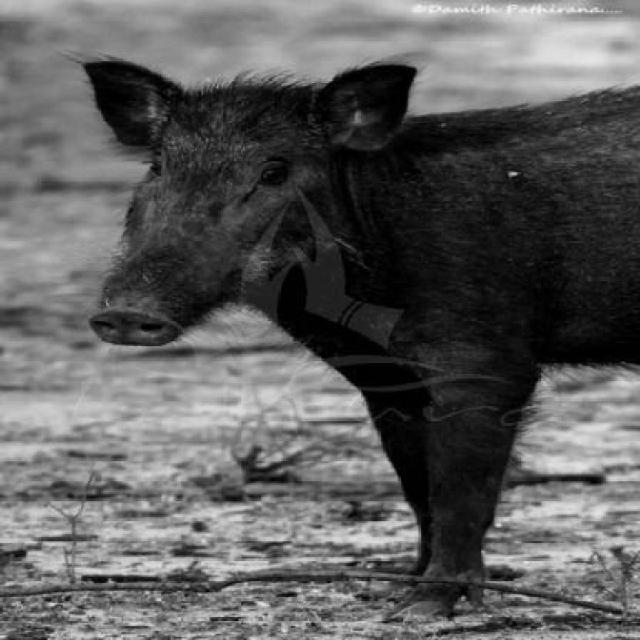Boar: (54, 48, 640, 622)
